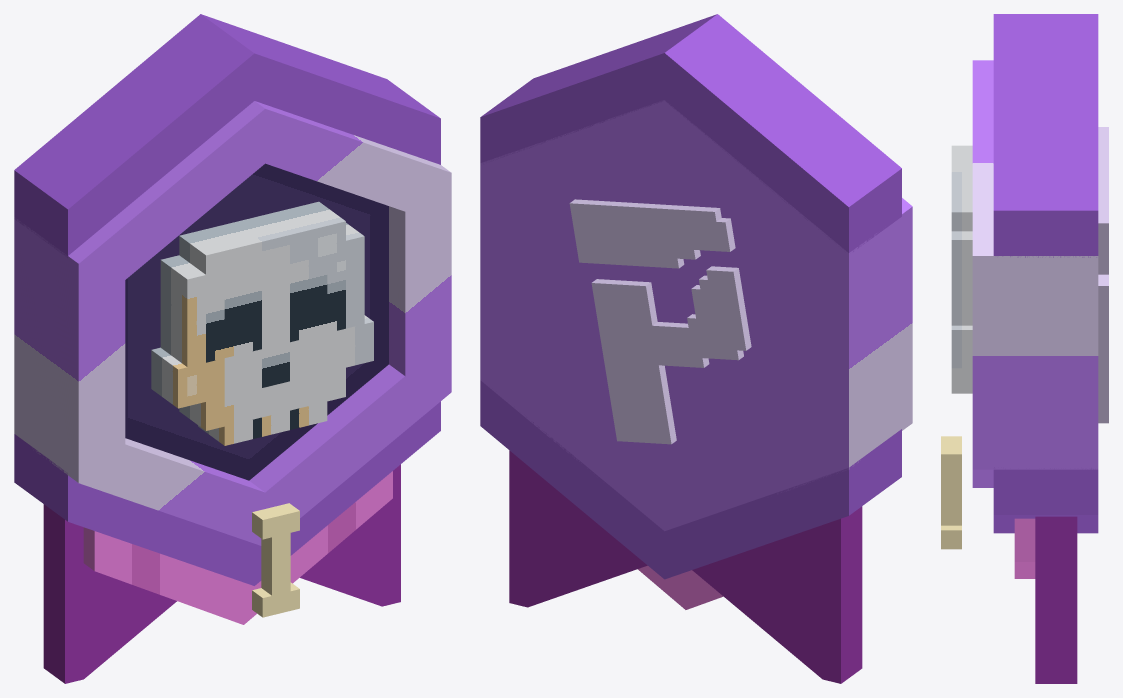
3 renders of one model, left to right at view 1: azimuth 30°, elevation 25°; view 2: azimuth 150°, elevation 25°; view 3: azimuth 270°, elevation 25°, orthographic. The views are drawn at different scales.
Visible parts, largest first — view 1: cylinder, cuboid (×5), skull; view 2: cylinder, cuboid (×4), p_logo; view 3: cuboid (×5), cylinder, skull, p_logo.
Part boxes in pixels (x1,y1,x2,y2): cylinder: (14,101,451,545); cuboid (×5): (14,14,440,683); skull: (151,201,373,445); cylinder: (480,100,912,531); cuboid (×4): (480,14,901,683); p_logo: (569,199,751,444); cuboid (×5): (941,14,1098,683); cylinder: (972,60,1098,487); skull: (951,145,972,393); p_logo: (1098,127,1108,423).
Size of the model in its own units: 2.5 by 3.88 by 1.
3 materials, 3 textured.
